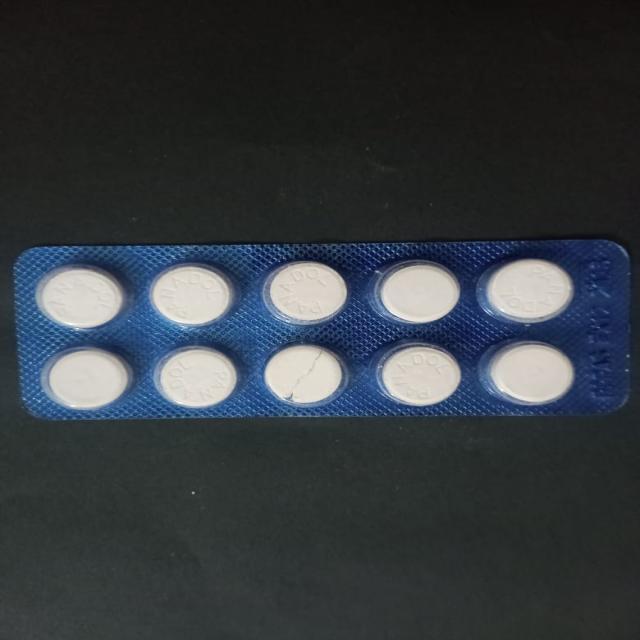defect: (259, 338, 353, 410)
